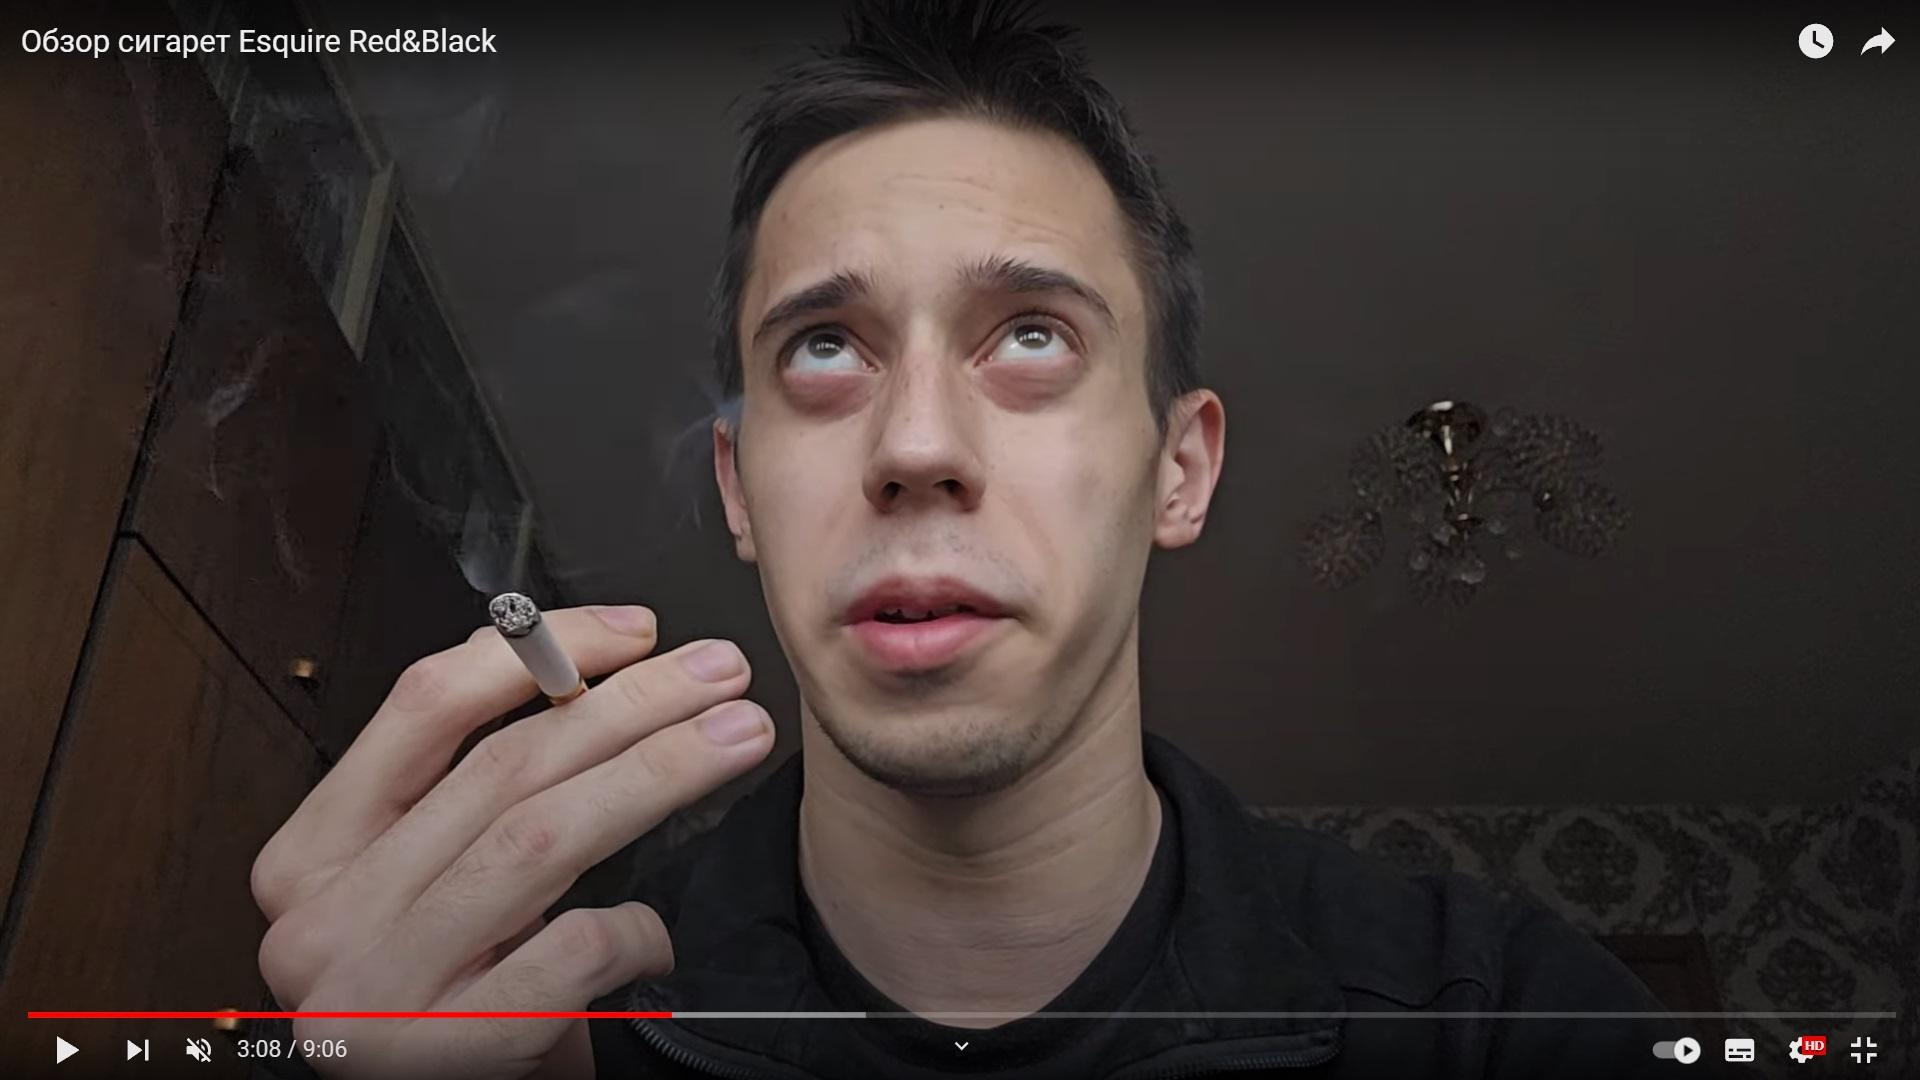cigarette: (488, 592, 582, 702)
